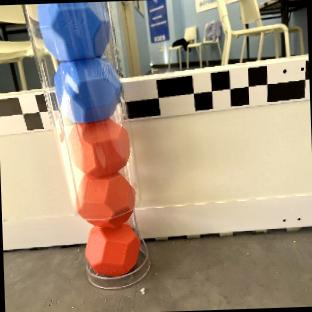Loader: (33, 1, 150, 288)
V5_BLUE: (38, 2, 121, 124)
V5_RED: (67, 119, 129, 174), (87, 222, 143, 276), (76, 173, 134, 224)
